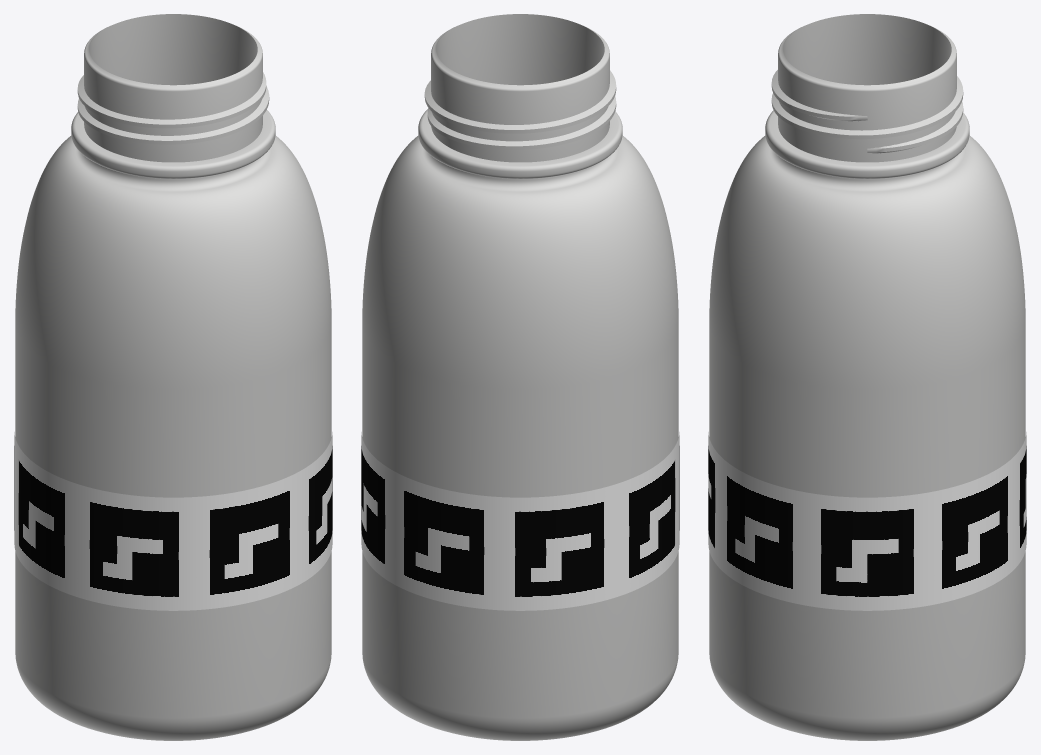
Rendered from PWD-0033_2002393238600.glb.
3 views of the same model, side by side, from view 1: azimuth 30°, elevation 25°; view 2: azimuth 150°, elevation 25°; view 3: azimuth 270°, elevation 25° (orthographic).
Parts seen in each view (by area): view 1: Bote_500mL, Label_PWD-0033; view 2: Bote_500mL, Label_PWD-0033; view 3: Bote_500mL, Label_PWD-0033.
Part boxes in pixels (bbox=[...]): Bote_500mL: bbox=[15, 14, 331, 740]; Label_PWD-0033: bbox=[14, 432, 332, 610]; Bote_500mL: bbox=[362, 14, 678, 740]; Label_PWD-0033: bbox=[361, 432, 679, 610]; Bote_500mL: bbox=[709, 14, 1025, 740]; Label_PWD-0033: bbox=[708, 432, 1026, 610].
Bounding box in the file's own units: 0.0744 × 0.1645 × 0.0744.
2 materials, 1 textured.
